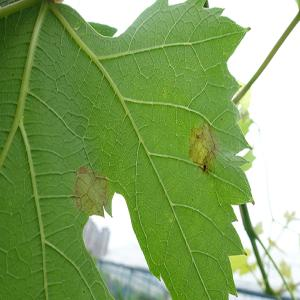Folha: (0, 0, 255, 299)
Fungo: (71, 164, 110, 218), (187, 118, 221, 174), (200, 148, 216, 173), (202, 164, 206, 172)
